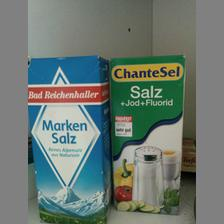Gewuerze: (27, 55, 108, 223), (108, 54, 186, 214)
